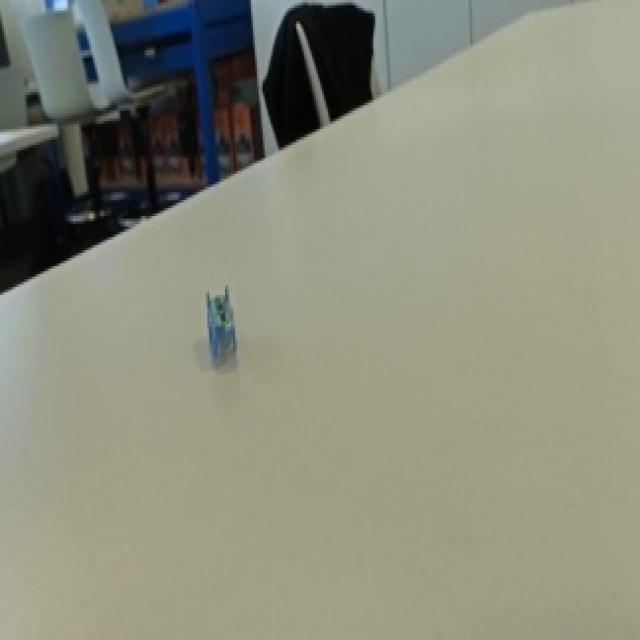3_NanoBug_Celeste: (189, 273, 265, 401)
